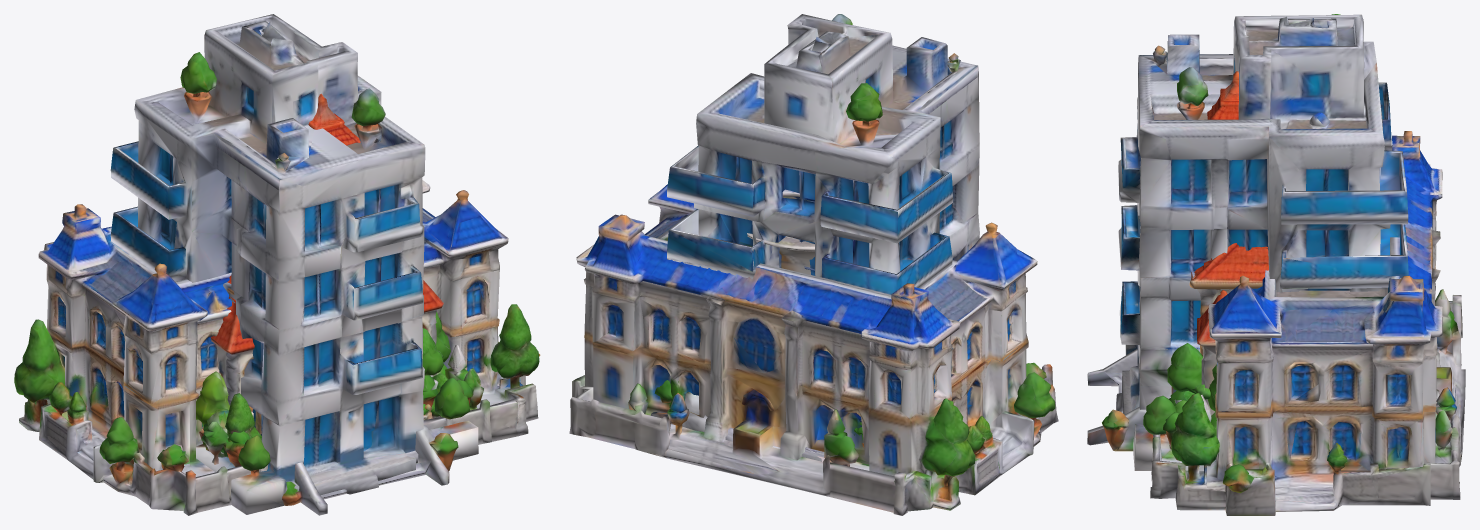
File: env_town_buildings_v001.glb
3 renders of one model, left to right at view 1: azimuth 30°, elevation 25°; view 2: azimuth 150°, elevation 25°; view 3: azimuth 270°, elevation 25°, orthographic. The views are drawn at different scales.
Parts seen in each view (by area): view 1: town_b, town_c, town_a; view 2: town_c, town_b; view 3: town_b, town_c, town_d, town_a.
Boxes of the visible parts, box(x1,y1,x2,y2) form: town_b: box(110, 14, 478, 514); town_c: box(14, 180, 540, 515); town_a: box(202, 93, 448, 457); town_c: box(569, 184, 1058, 515); town_b: box(651, 14, 979, 470); town_b: box(1116, 14, 1408, 470); town_c: box(1087, 131, 1465, 515); town_d: box(1189, 243, 1268, 399); town_a: box(1174, 71, 1238, 436).
Bounding box in the file's own units: 19.48 × 17 × 14.75.
1 material, 1 textured.
